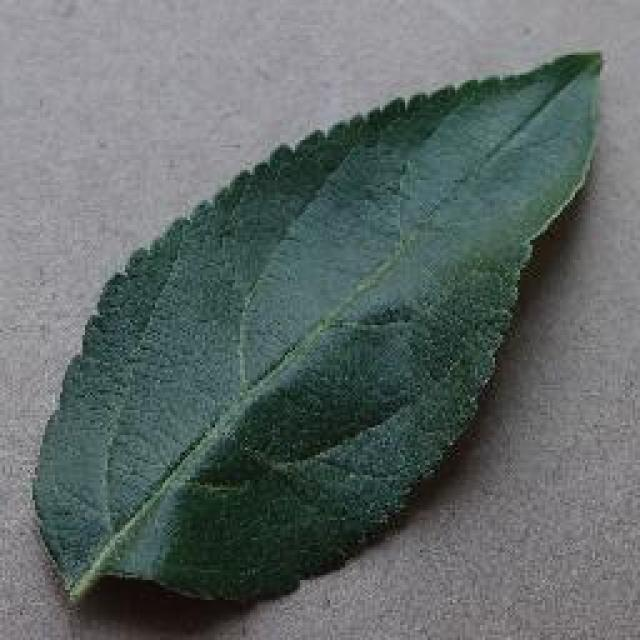Apple___healthy: (22, 28, 610, 638)
